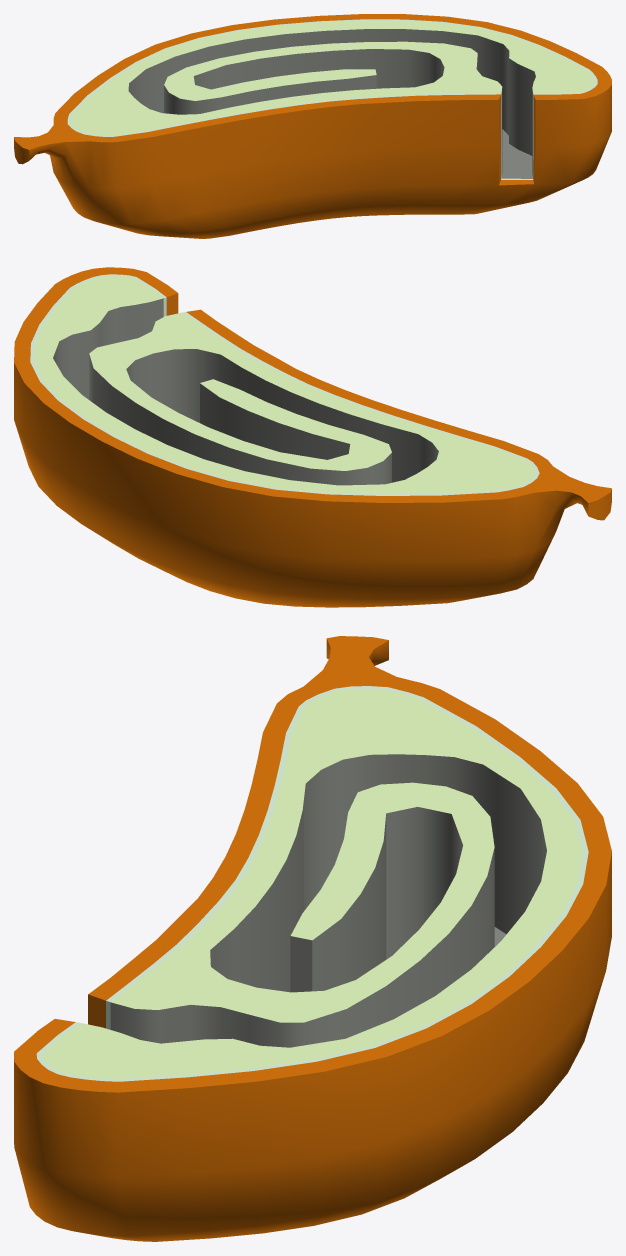
The model's file is banan.FBX.
3 renders of one model, top to bottom at view 1: azimuth 30°, elevation 25°; view 2: azimuth 150°, elevation 25°; view 3: azimuth 270°, elevation 25°, orthographic. The views are drawn at different scales.
Parts seen in each view (by area): view 1: Object023, Object024, Plane001, Object022; view 2: Object023, Plane001, Object024, Object022; view 3: Object023, Plane001, Object024, Object022.
Part boxes in pixels (x1,y1,x2,y2): Object023: [14, 14, 611, 238]; Object024: [128, 29, 535, 178]; Plane001: [71, 20, 594, 135]; Object022: [67, 19, 597, 179]; Object023: [14, 267, 611, 607]; Plane001: [34, 276, 535, 494]; Object024: [53, 298, 438, 485]; Object022: [30, 274, 539, 495]; Object023: [14, 636, 611, 1241]; Plane001: [42, 688, 582, 1078]; Object024: [110, 754, 546, 1047]; Object022: [36, 686, 588, 1081].
Size of the model in its own units: 245 by 136 by 60.6.
